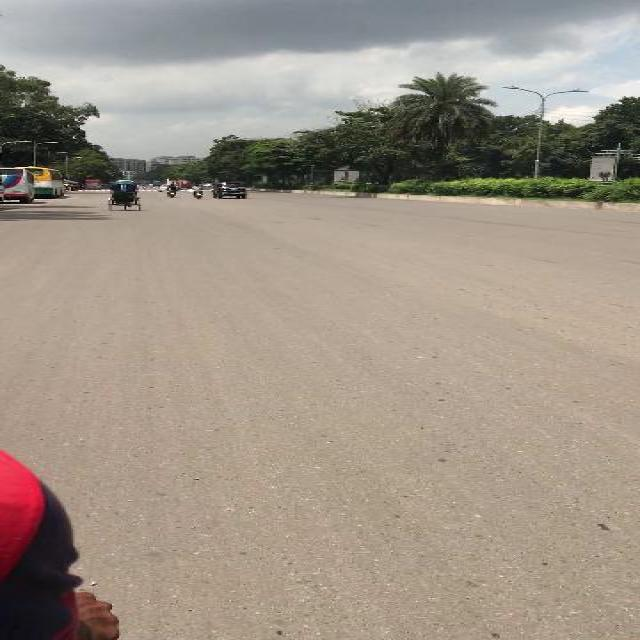bike: (192, 185, 206, 200), (165, 184, 178, 199)
vehicle: (3, 168, 35, 205), (31, 167, 67, 199), (107, 180, 141, 212), (211, 182, 246, 200), (163, 178, 181, 186), (158, 185, 168, 193)
